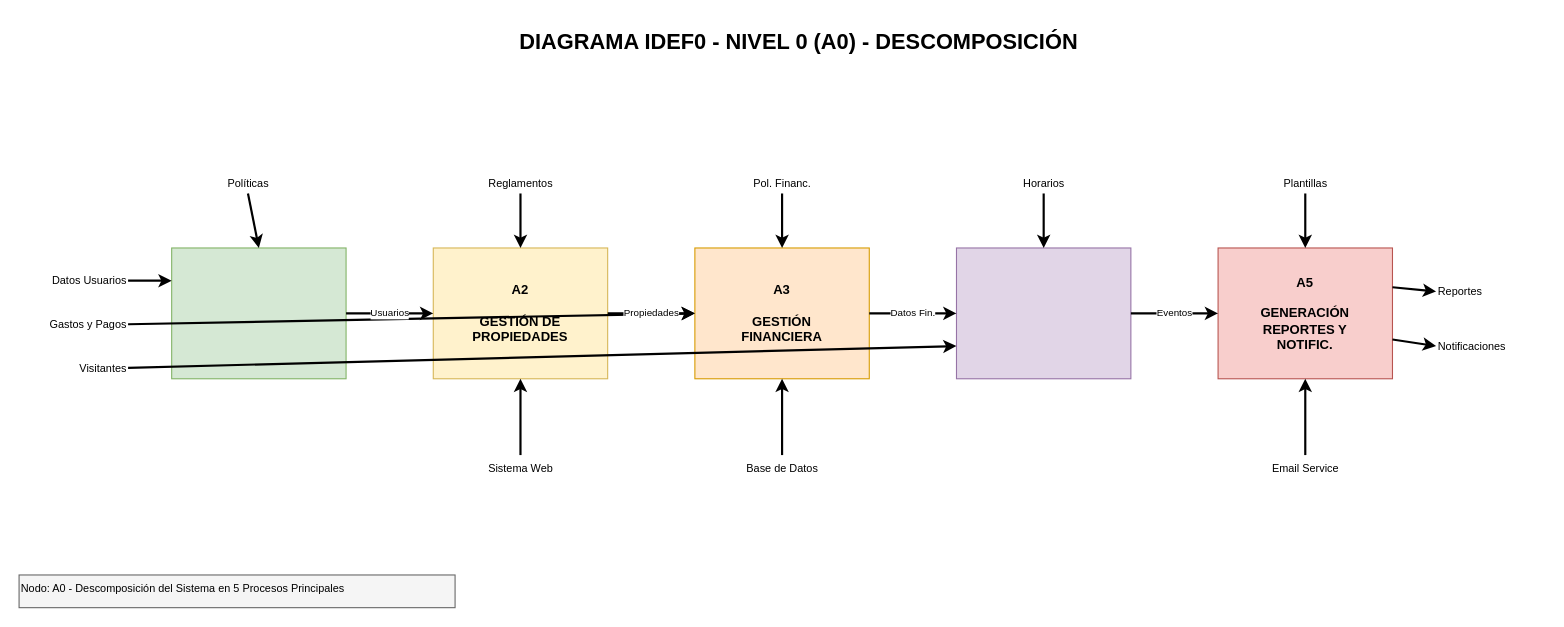
This 1564x627 diagram has some shape labels left out. The shapes that lost their labels are listed below. From the top down, each one's centre as x and y in pixels, then its label:
point (258, 313): A1 GESTIÓN DE USUARIOS Y SEGURIDAD
point (1043, 313): A4 GESTIÓN DE SERVICIOS
